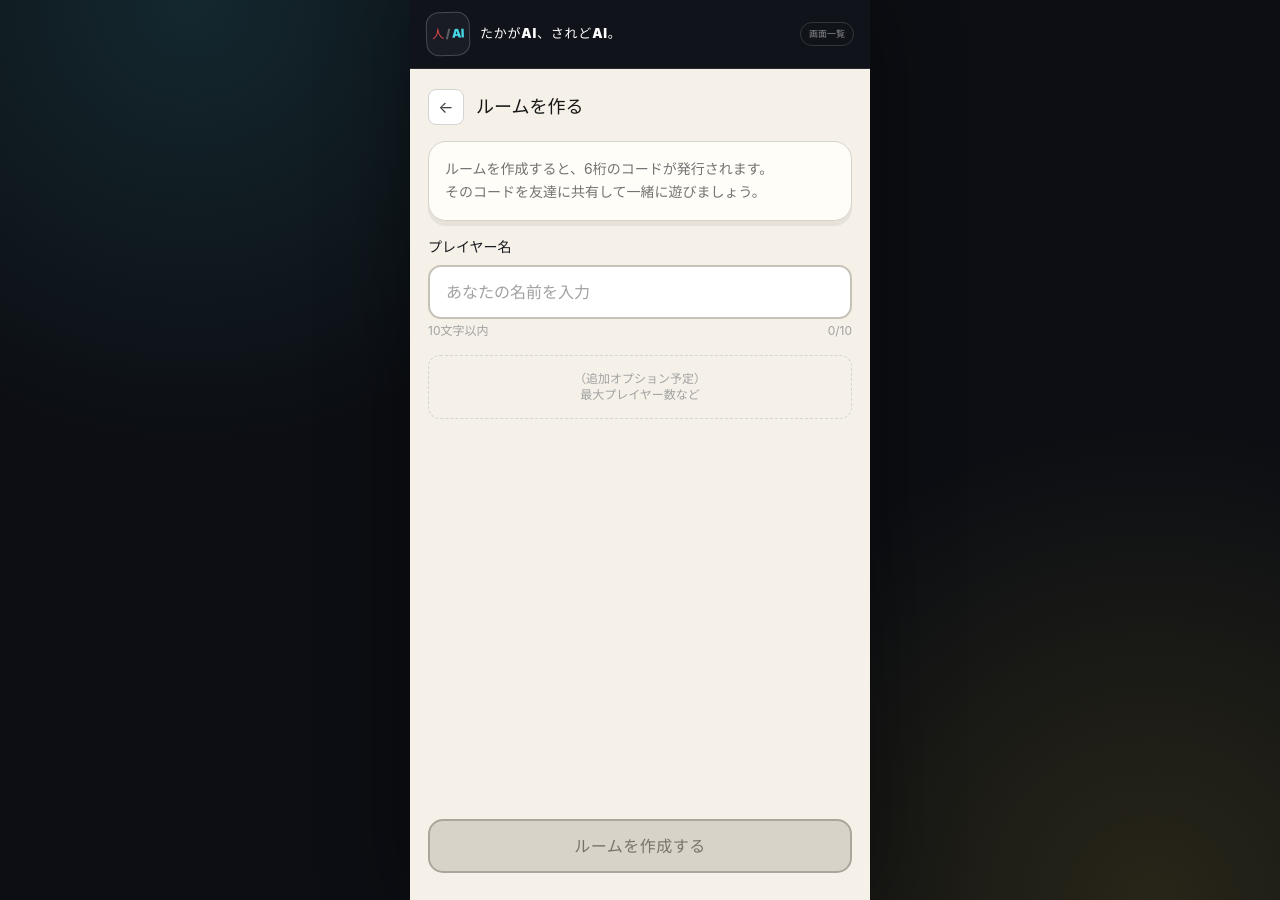
CreateRoomPage › 予期しない例外の技術情報を画面へ表示しない
Type "たけし" into the field with placeholder "あなたの名前を入力".
click(640, 292); type("たけし")  # box [428,264,852,318]
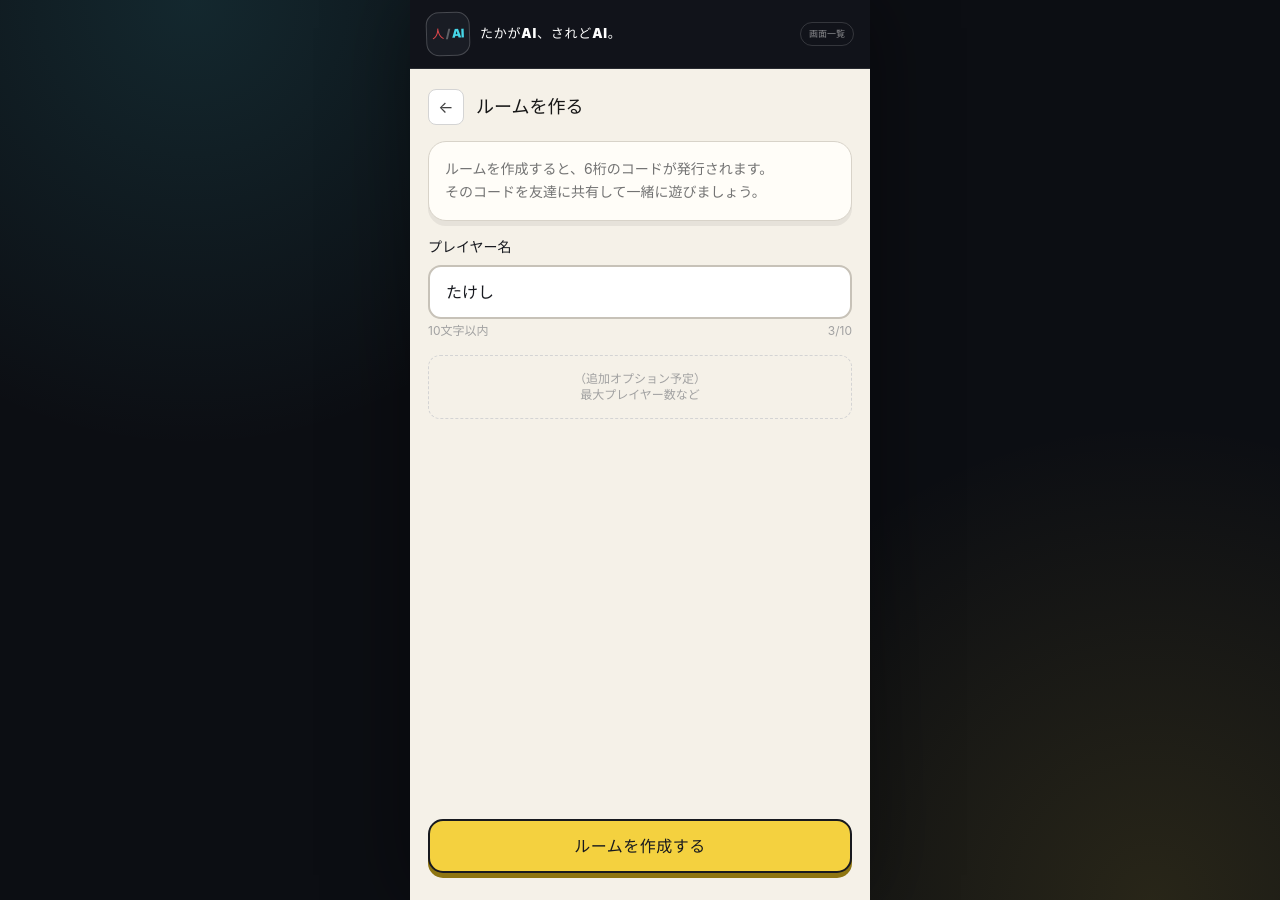
Click the button "ルームを作成する".
click(640, 846)  # box [428,819,852,873]
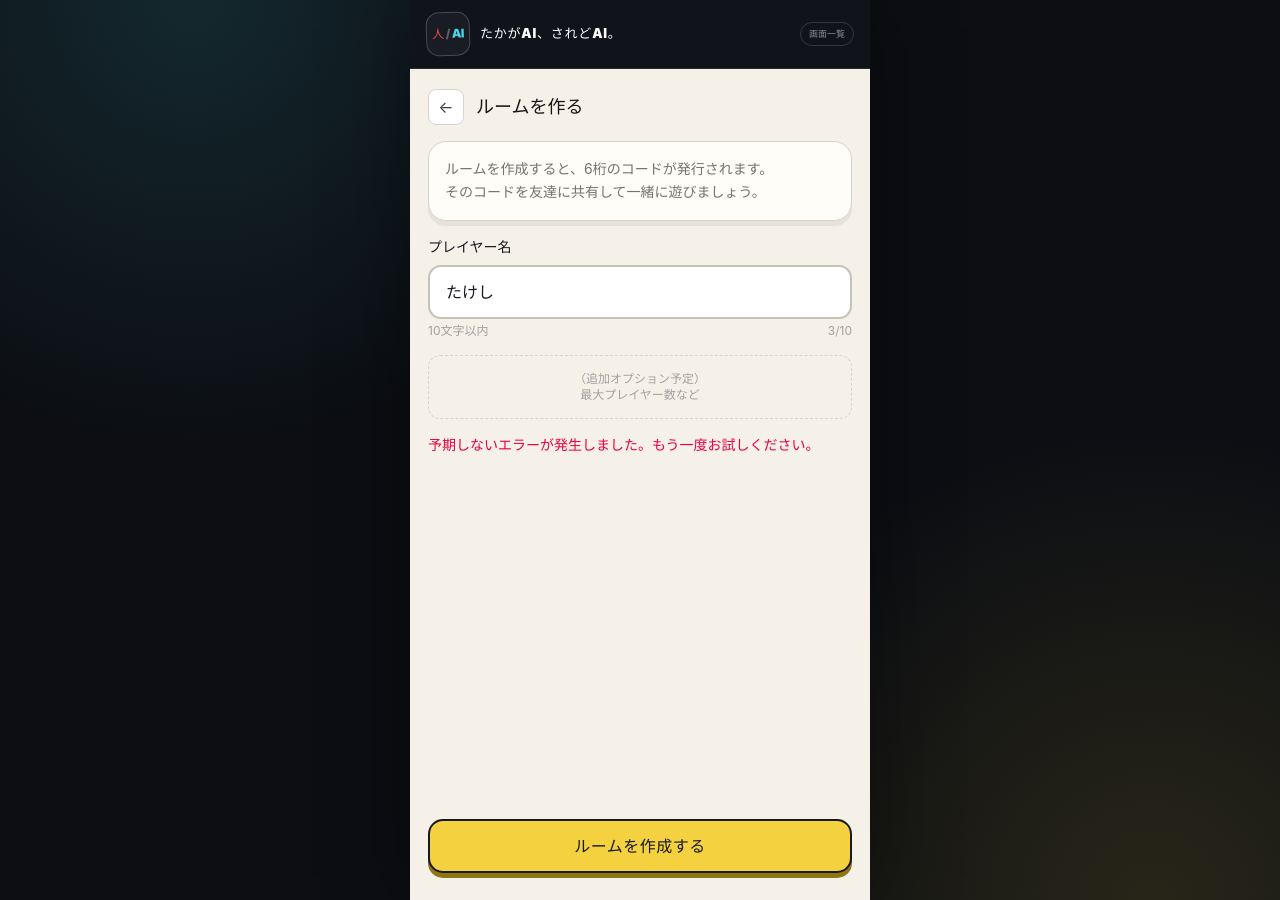
Now the message reads "予期しないエラーが発生しました。もう一度お試しください。", box [428,436,820,452]
